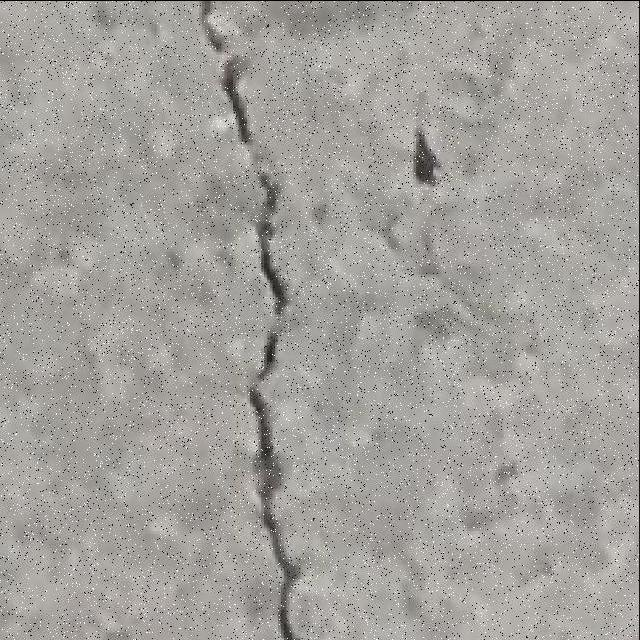Crack: (197, 2, 303, 637)
